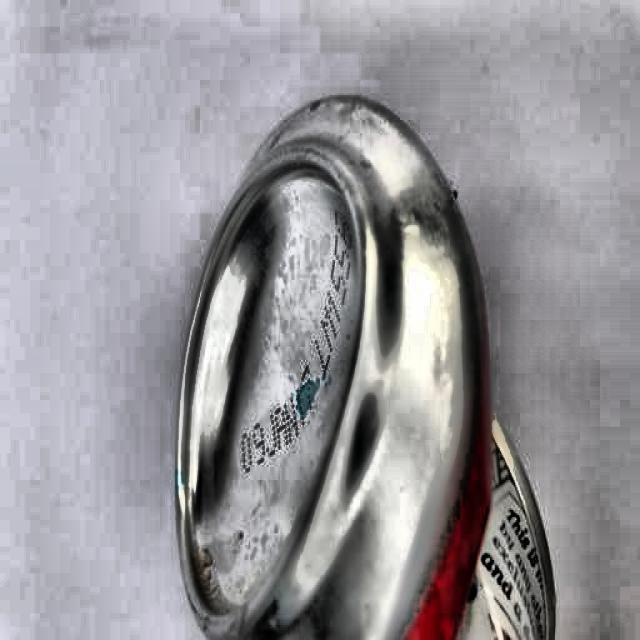metal: (179, 90, 498, 640)
